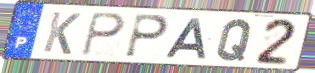2: (254, 17, 299, 67)
A: (163, 17, 209, 61)
K: (40, 10, 83, 57)
P: (122, 13, 171, 60), (80, 11, 127, 57)
Q: (215, 18, 255, 63)
